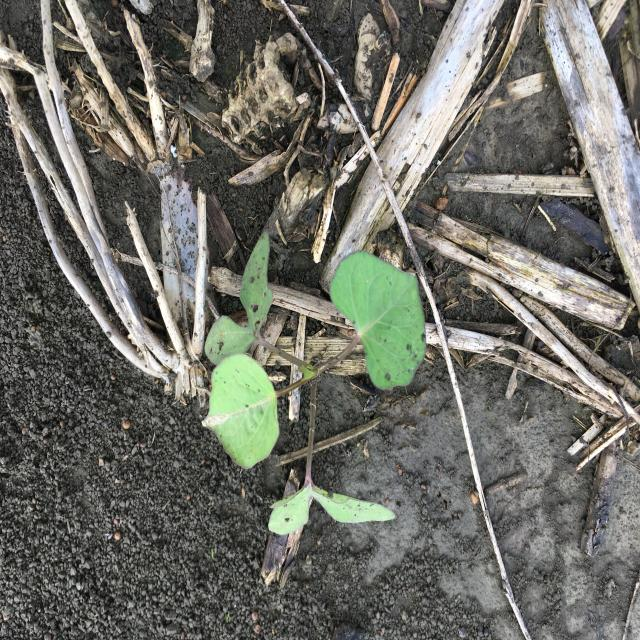MorningGlory: (199, 231, 428, 538)
